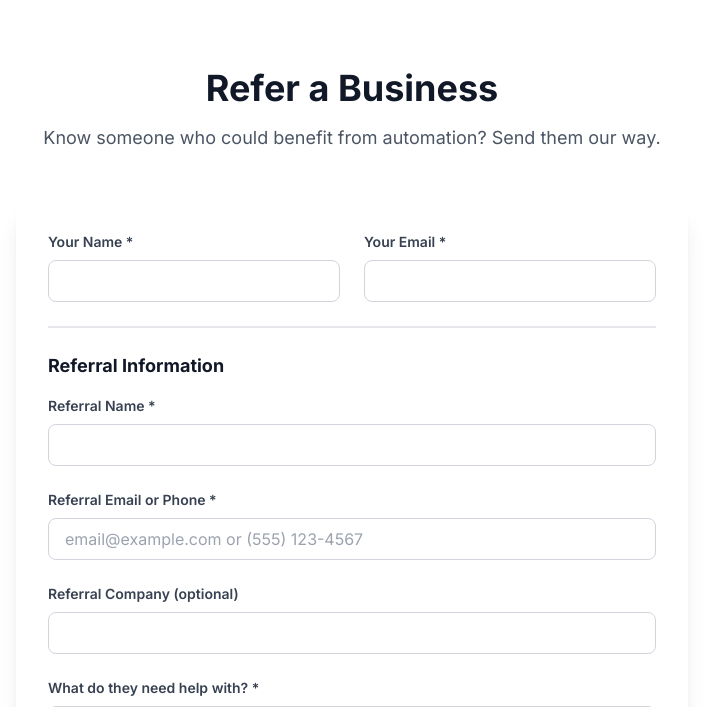
Referrals › Form Submission › should show error message on failed submit
In the field labelled "Your Name *": [194, 281] box [48, 260, 340, 302], type "John Doe"
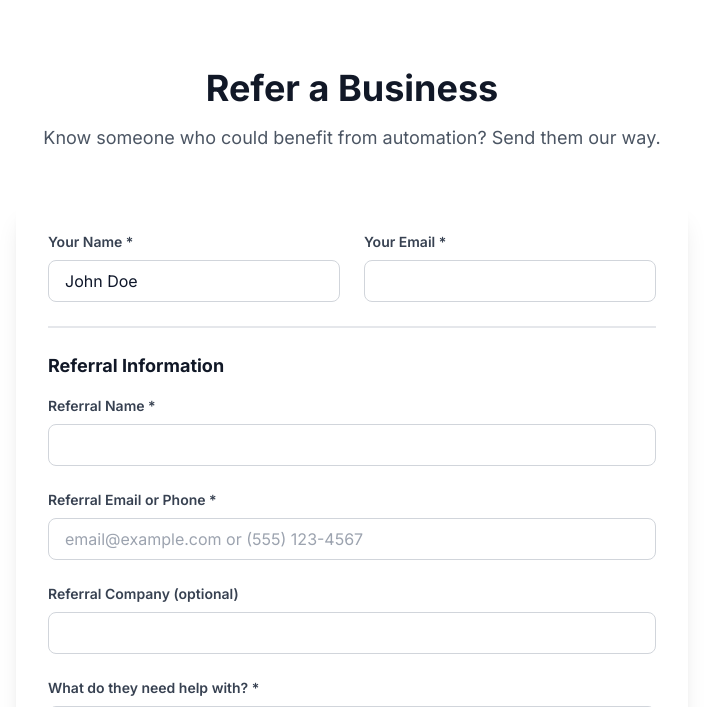
In the field labelled "Your Email *": [510, 281] box [364, 260, 656, 302], type "john@example.com"
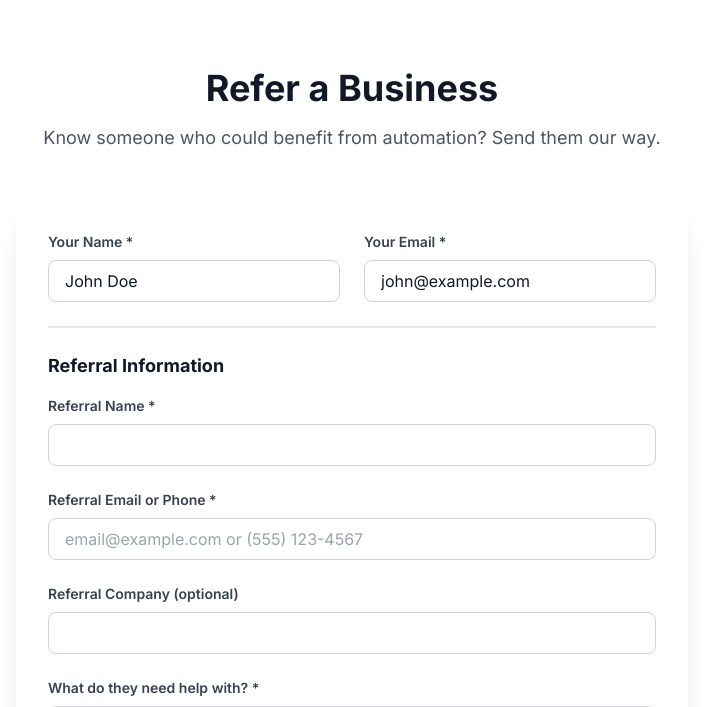
In the field labelled "Referral Name *": [352, 445] box [48, 424, 656, 466], type "Jane Smith"
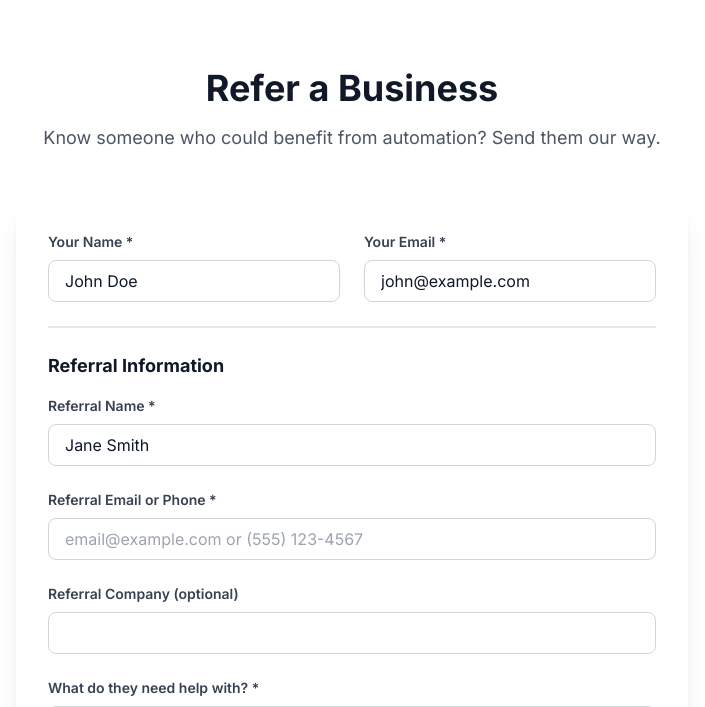
In the field labelled "Referral Email or Phone *": [352, 539] box [48, 518, 656, 560], type "jane@example.com"
(page scrolled)
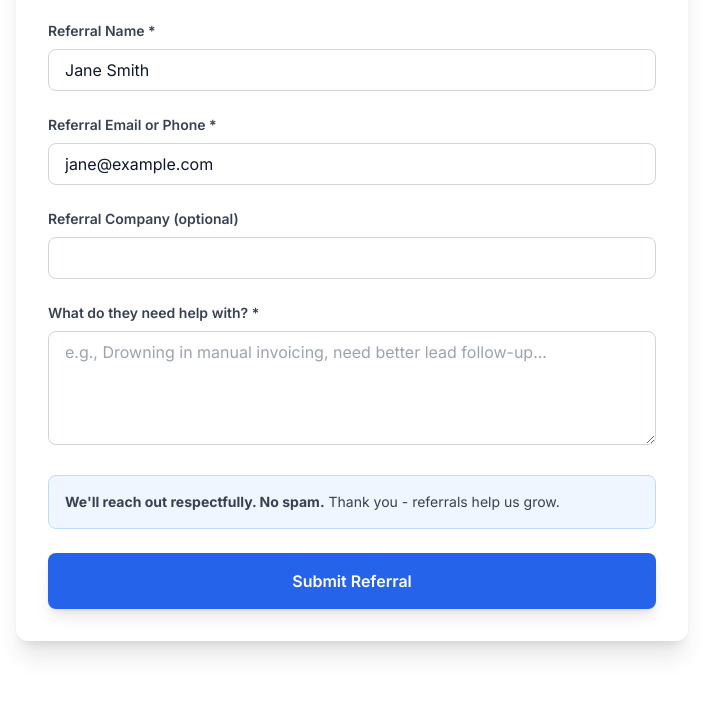
Replace the text in the text box labelled "What do they need help with? *" with "Help needed": [352, 388] box [48, 331, 656, 445]
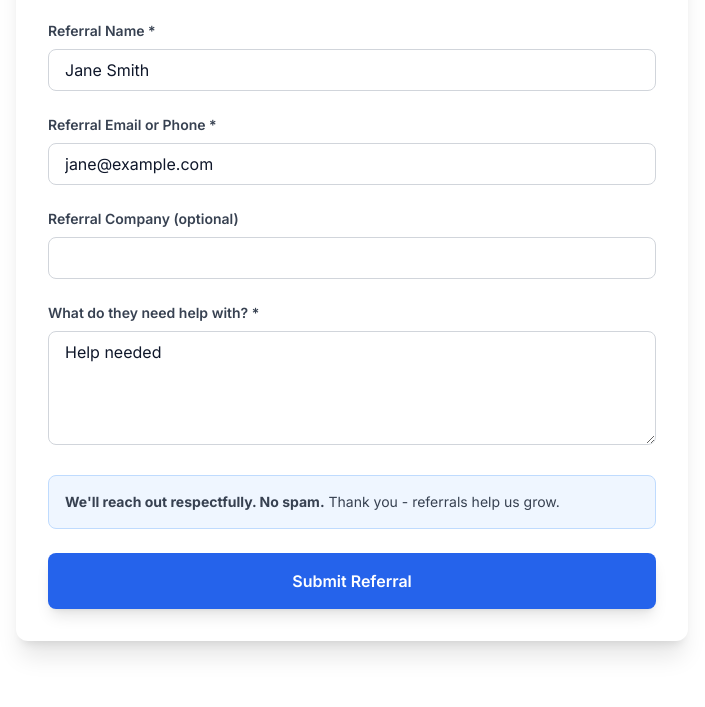
Click the button "Submit Referral": [352, 581] box [48, 553, 656, 609]
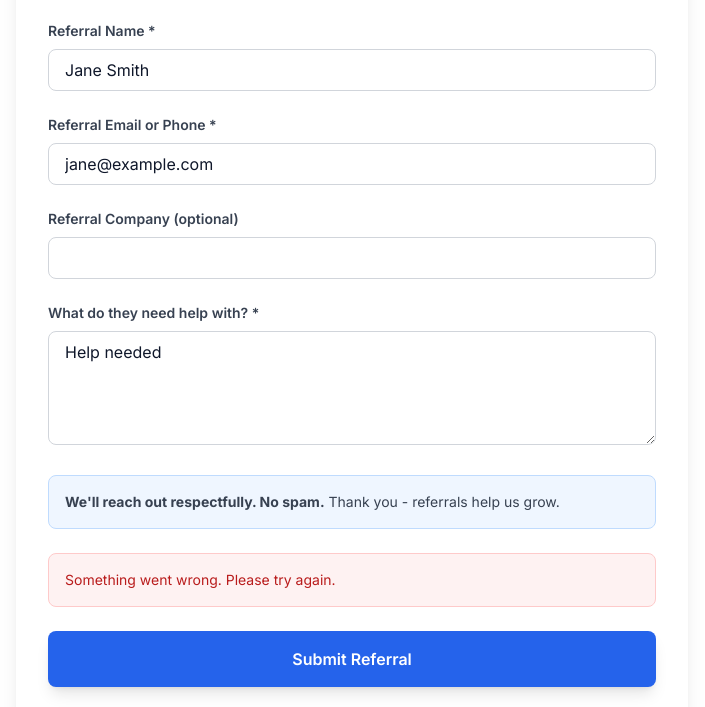
Expected: the text "Something went wrong. Please try again." is shown, [65, 571, 336, 588]
